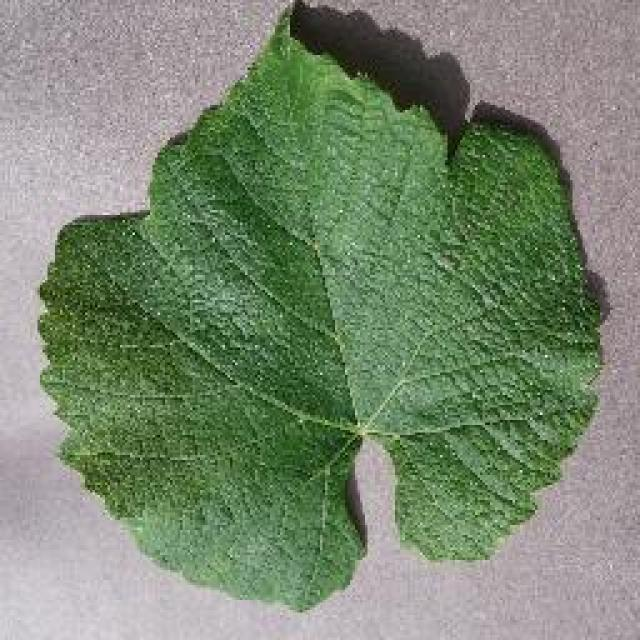Grape___healthy: (23, 1, 613, 625)
